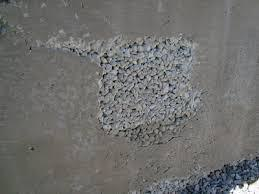Spalling: (96, 35, 205, 146), (128, 157, 259, 194), (34, 36, 96, 64)
